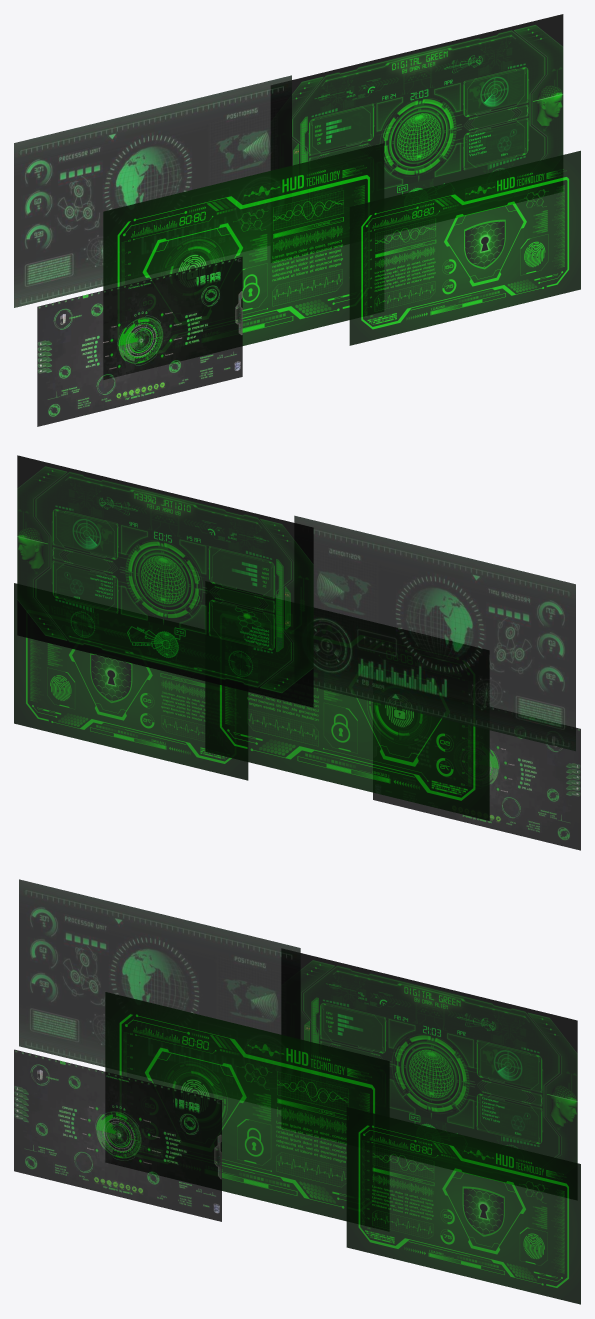
Rendered from computer.glb.
3 renders of one model, top to bottom at view 1: azimuth 30°, elevation 25°; view 2: azimuth 150°, elevation 25°; view 3: azimuth 330°, elevation 25°, orthographic.
Parts seen in each view (by area): view 1: Object_7, Object_5, Object_9, Object_13, Object_11; view 2: Object_5, Object_13, Object_7, Object_9, Object_11; view 3: Object_7, Object_5, Object_9, Object_13, Object_11.
Boxes of the visible parts, box(x1,y1,x2,y2) form: Object_7: box(103, 143, 384, 379); Object_5: box(271, 14, 563, 198); Object_9: box(349, 150, 580, 345); Object_13: box(14, 75, 291, 307); Object_11: box(37, 256, 242, 426); Object_5: box(17, 455, 313, 707); Object_13: box(294, 515, 575, 751); Object_7: box(205, 608, 489, 820); Object_9: box(14, 583, 248, 780); Object_11: box(373, 707, 580, 850); Object_7: box(105, 992, 389, 1221); Object_5: box(282, 949, 577, 1163); Object_9: box(346, 1107, 580, 1304); Object_13: box(19, 879, 300, 1067); Object_11: box(14, 1049, 221, 1221).
Size of the model in its own units: 1.35 by 0.6405 by 0.064.
Materials: 5 (5 with a texture image).
